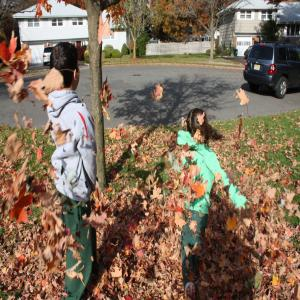Vehicle-registration-plate: (254, 65, 261, 70)
